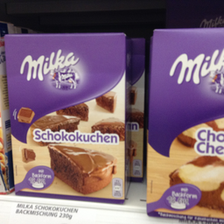cake: (4, 32, 128, 199), (145, 25, 224, 223)
